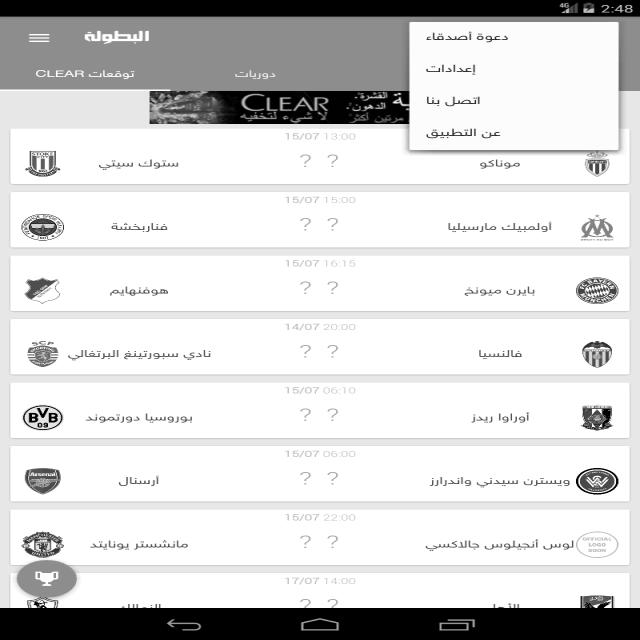ImageButton: (17, 33, 58, 49)
ImageView: (17, 203, 82, 241), (16, 558, 86, 592), (574, 274, 630, 304), (571, 213, 616, 250), (16, 272, 68, 304), (14, 532, 79, 556), (19, 403, 74, 431), (21, 465, 74, 493), (18, 336, 58, 372), (574, 401, 618, 432), (580, 530, 618, 564), (578, 341, 622, 369), (578, 144, 616, 176), (29, 147, 70, 176), (580, 588, 624, 610)
TextView: (416, 26, 534, 144), (414, 535, 574, 553), (61, 342, 220, 360), (436, 218, 558, 238), (80, 407, 202, 427), (424, 475, 583, 489), (96, 155, 194, 177), (73, 22, 155, 48), (28, 63, 141, 81), (89, 536, 192, 554), (96, 213, 178, 235), (290, 461, 356, 487), (456, 281, 542, 300), (290, 337, 356, 361), (466, 409, 540, 429), (226, 66, 296, 86), (100, 284, 182, 300), (292, 402, 344, 426), (473, 344, 527, 366), (115, 467, 165, 489), (290, 279, 345, 298), (299, 149, 341, 172), (290, 533, 348, 549), (300, 215, 356, 231), (466, 157, 526, 171)
